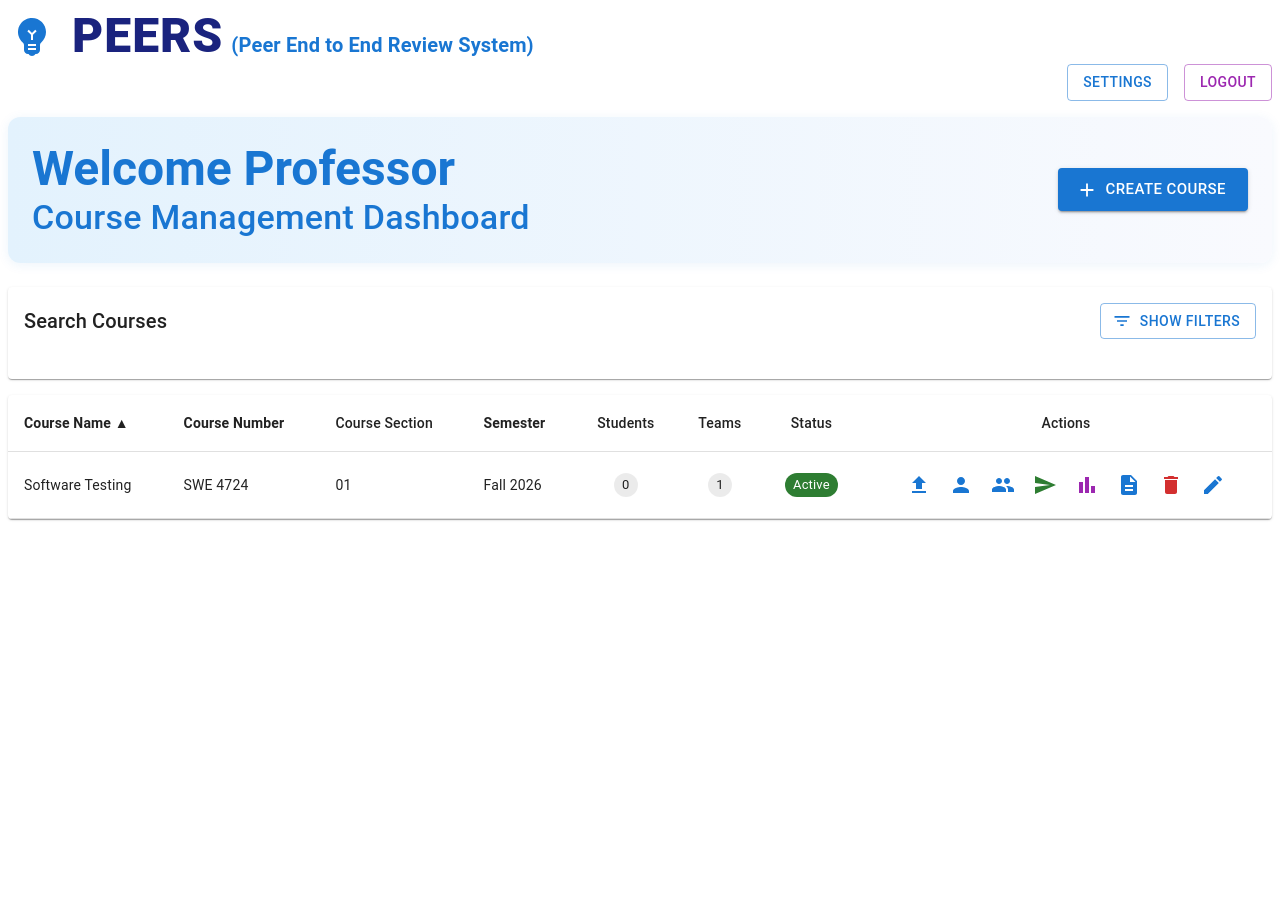
Test: CourseManagement reset sequencing › waits for reset success before performing the pending add
The width and height of the screenshot is (1280, 900).
Click the button titled "Manage Teams" at (1003, 485), box [986, 468, 1020, 502]
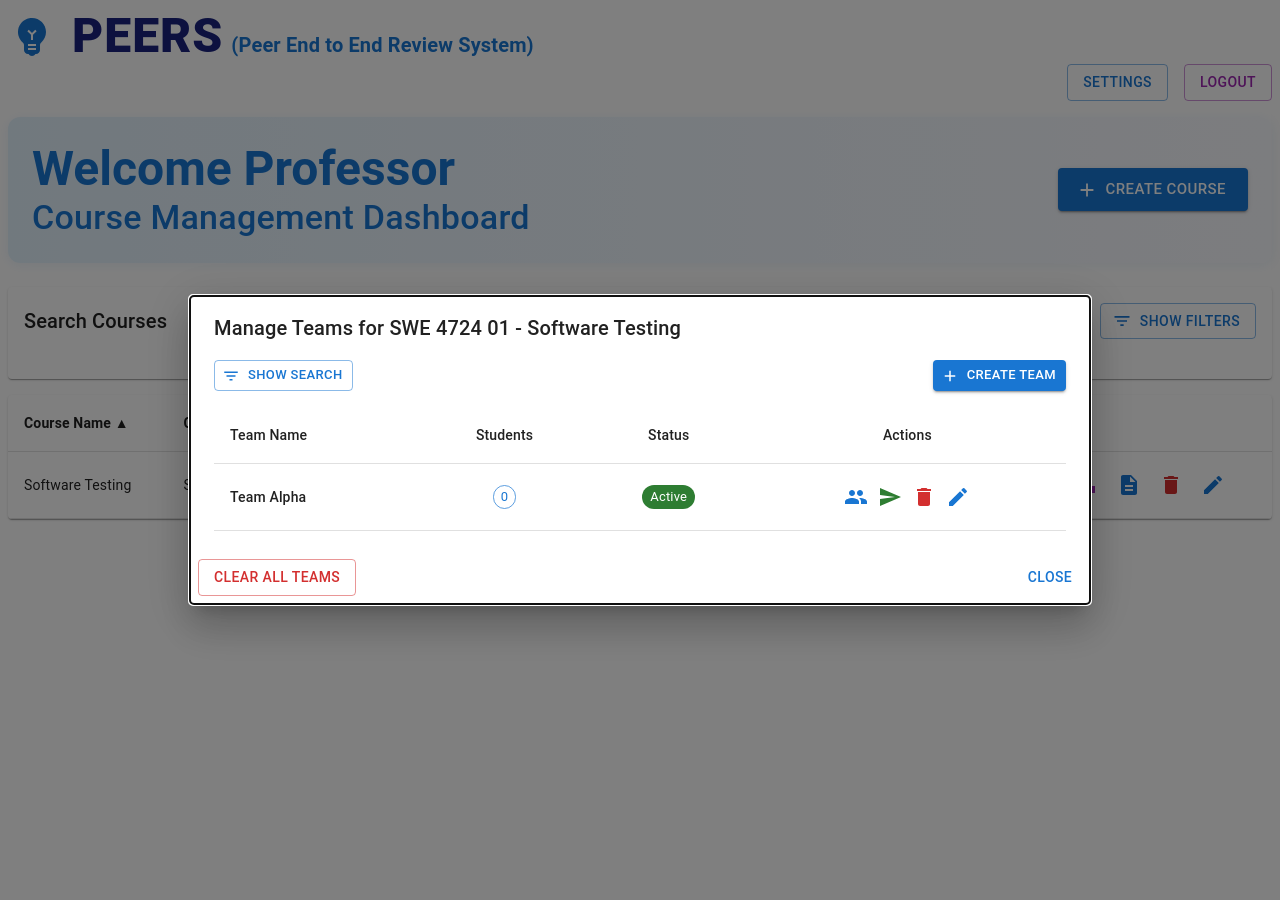
Click the button titled "Manage Students" at (856, 497), box [839, 480, 873, 514]
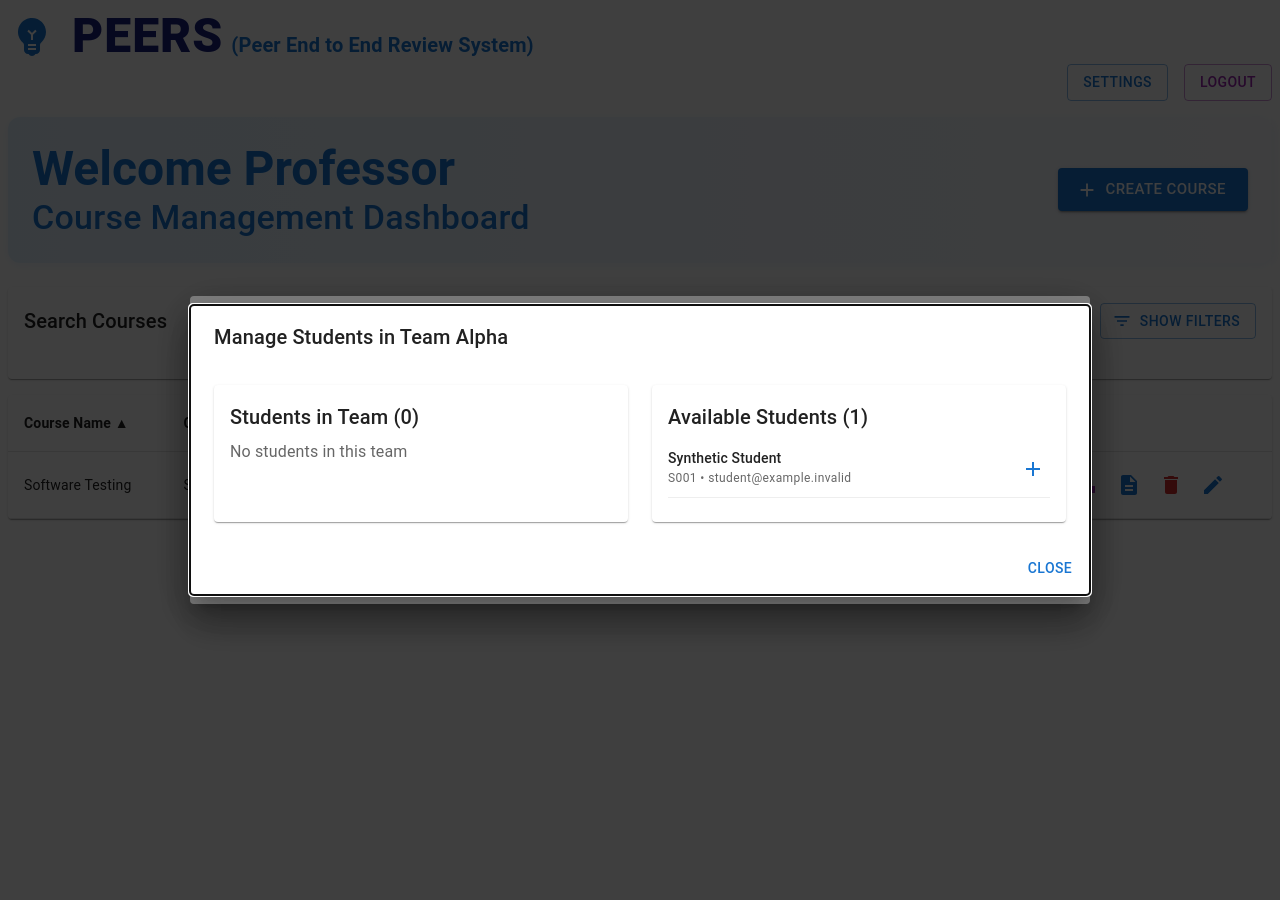
Click the button titled "Add to team" at (1033, 469), box [1016, 452, 1050, 486]
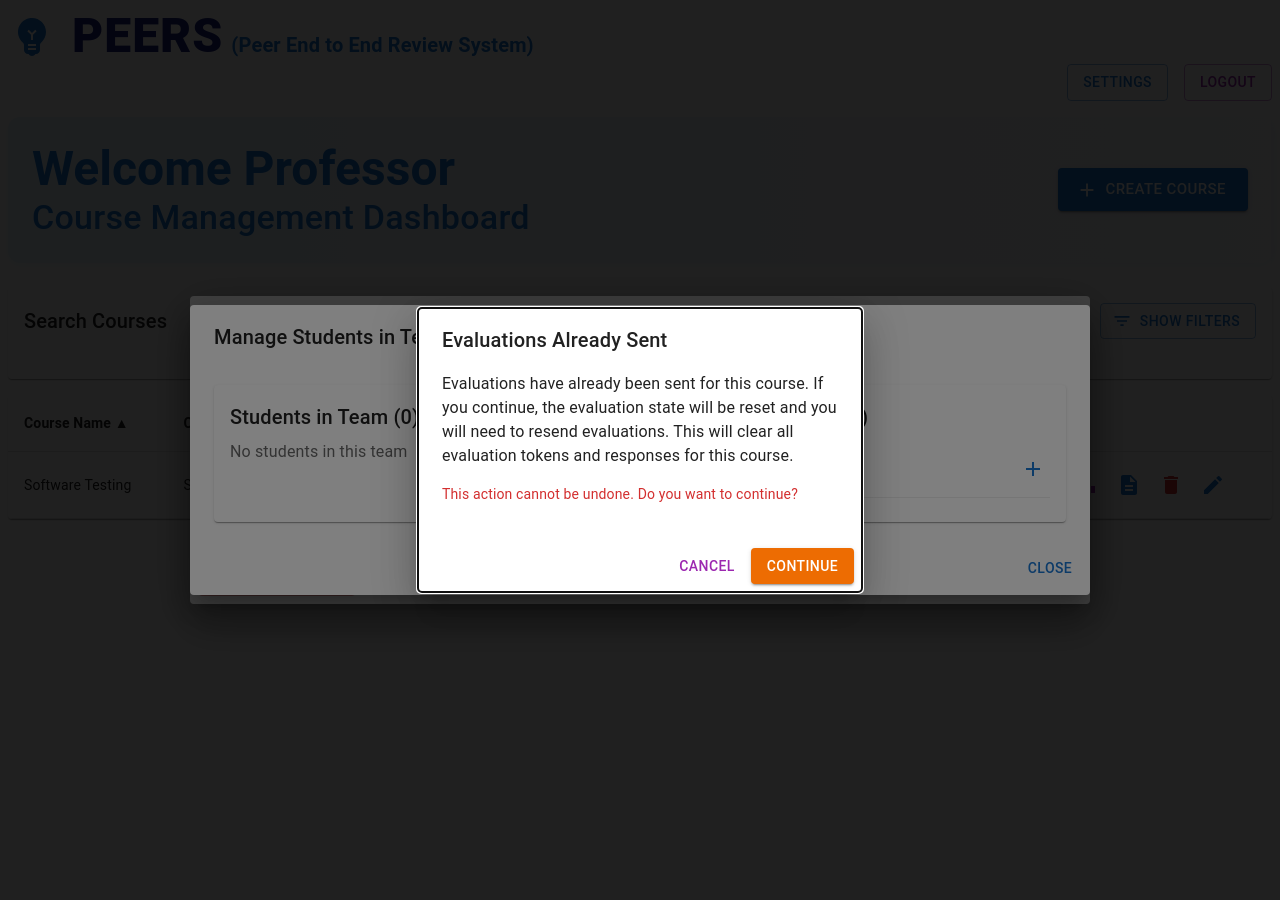
Click the button "Continue" at (802, 566), box [751, 548, 854, 584]
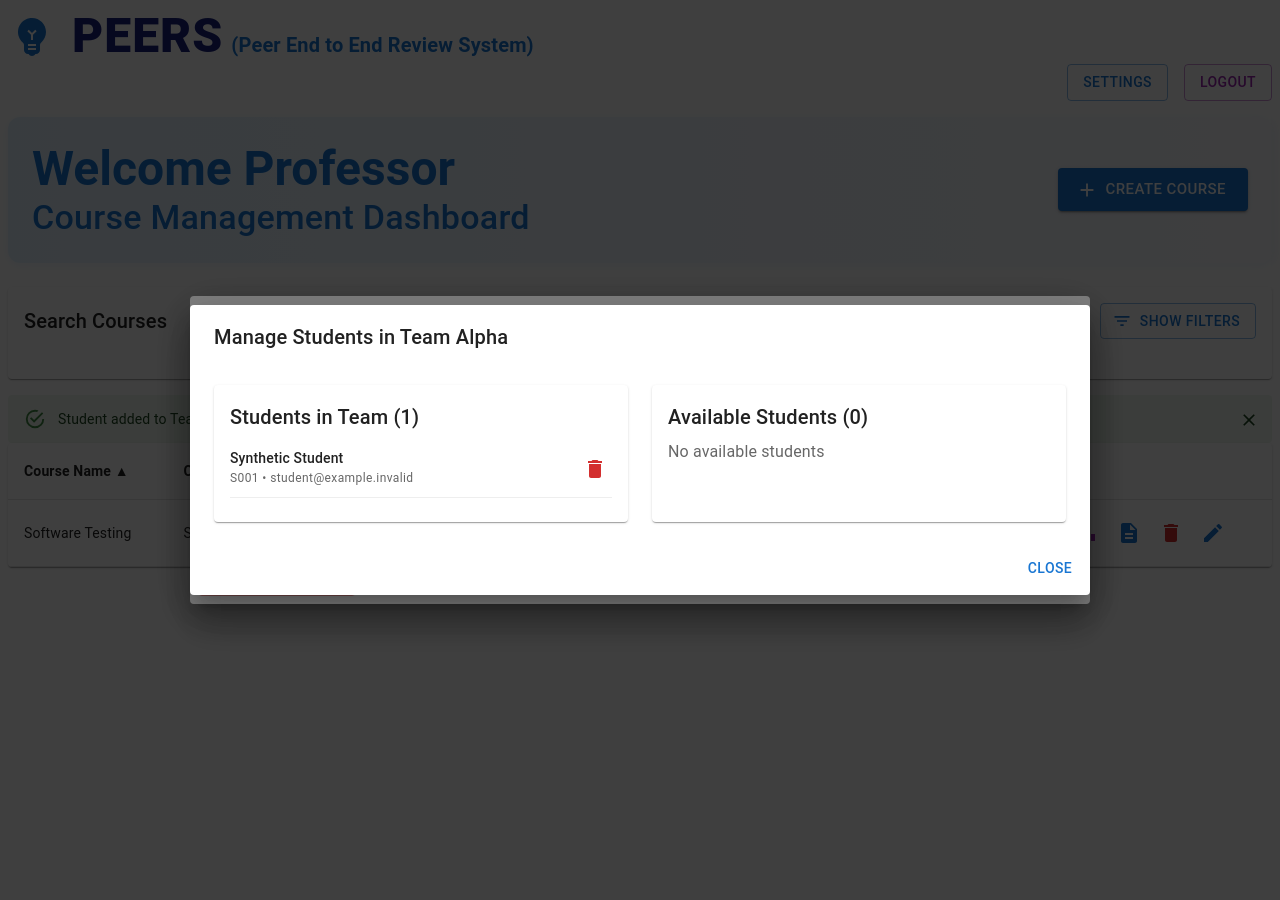
expect the heading "Students in Team (1)" is shown: met, box [230, 405, 419, 429]
